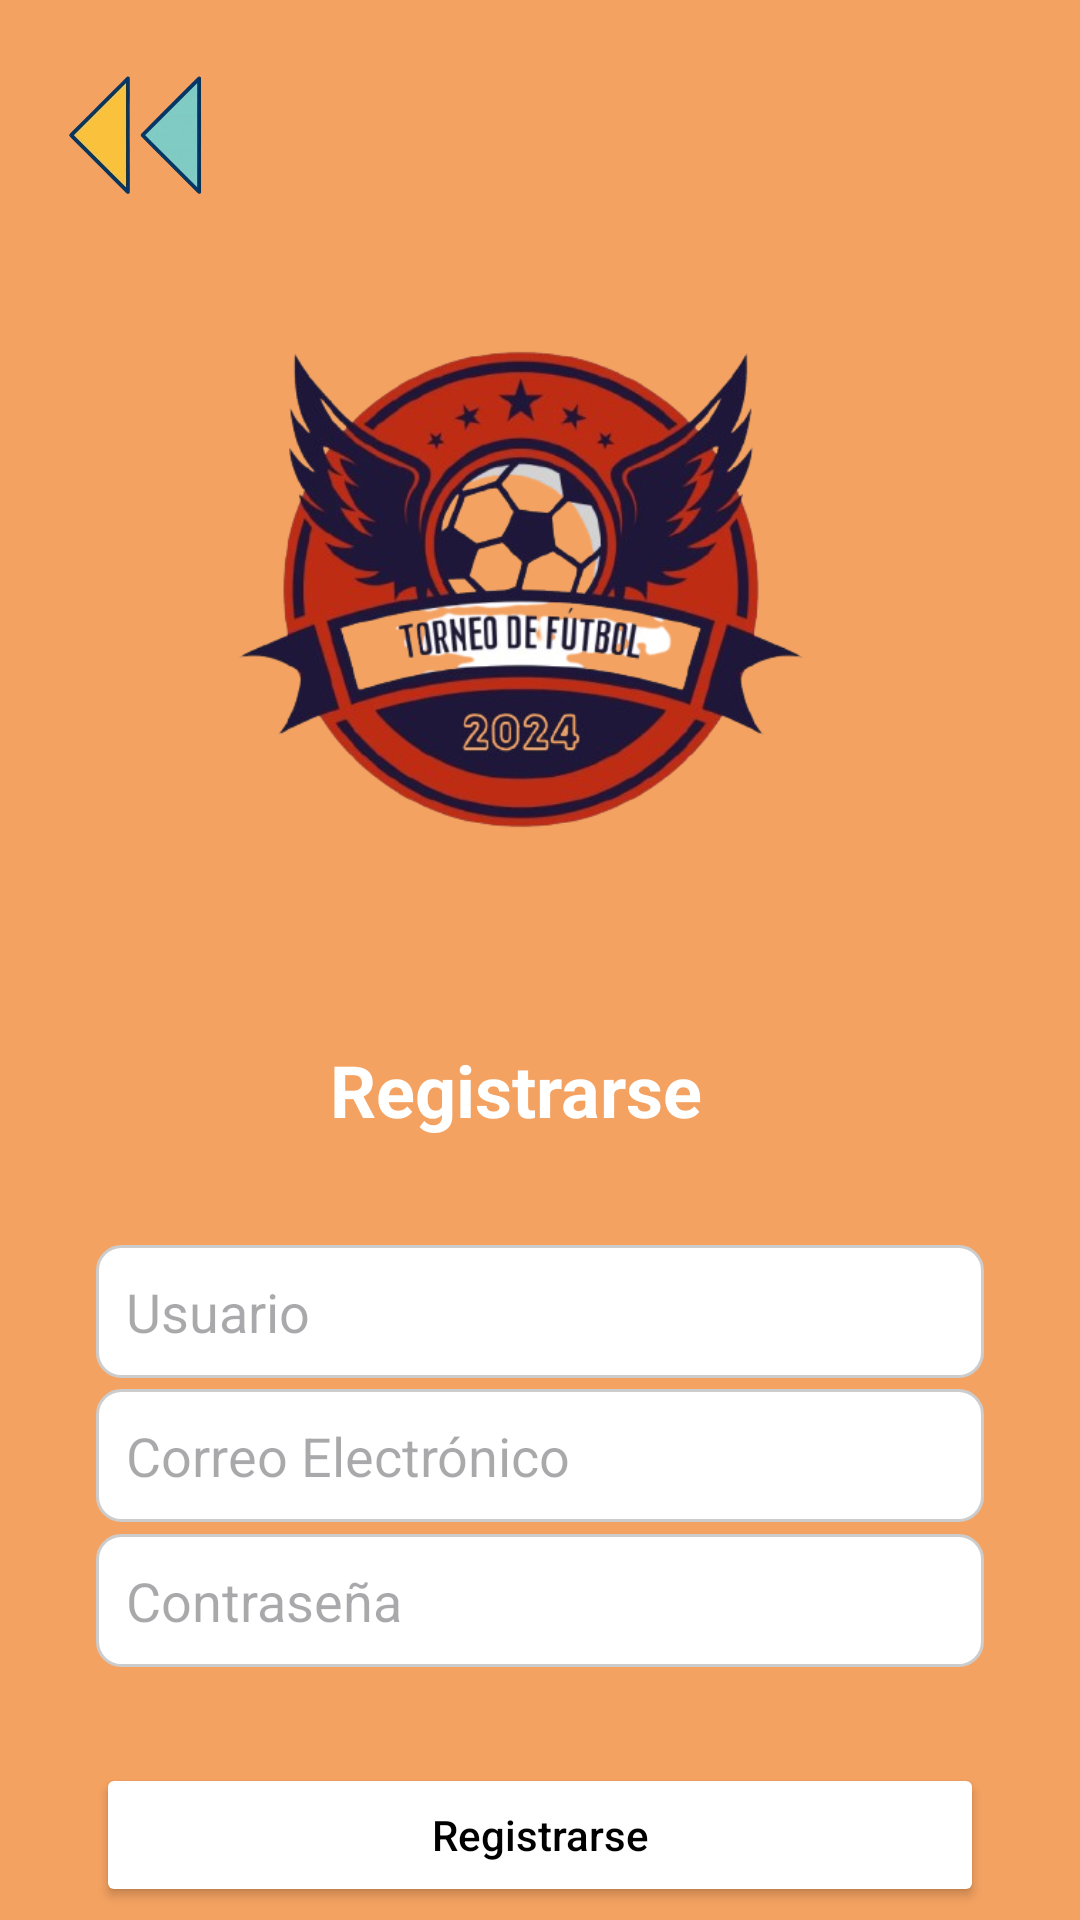

Icon bounding boxes for this 1080*1920 phone screenshot, format region(x1, y1, x2, y2):
Retroceder: region(69, 76, 201, 194)
